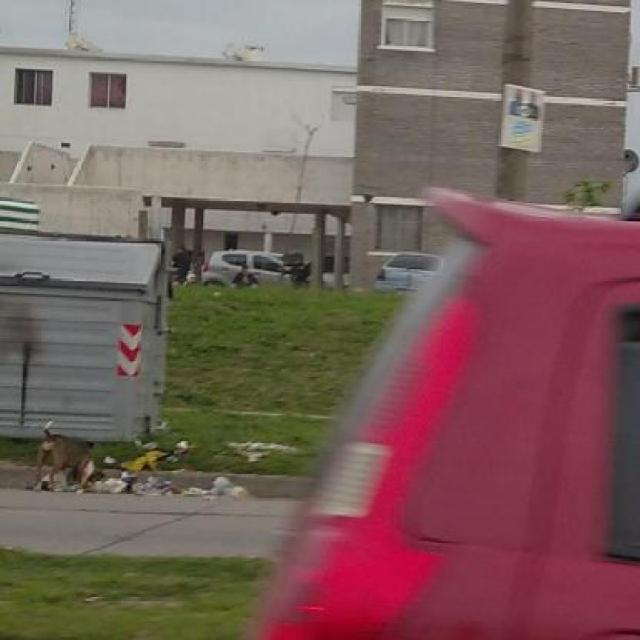garbage: (34, 405, 286, 525)
